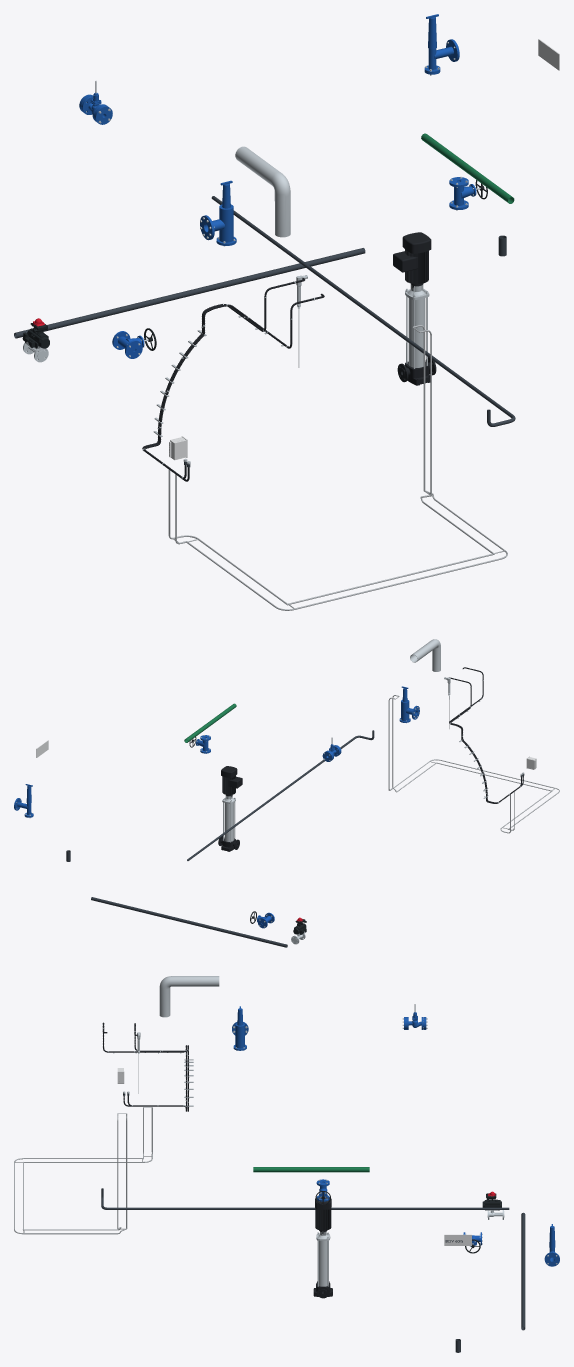
Rendered from s4000-6-CnQ8kFjD.glb.
3 renders of one model, top to bottom at view 1: azimuth 30°, elevation 25°; view 2: azimuth 150°, elevation 25°; view 3: azimuth 270°, elevation 25°, orthographic. The views are drawn at different scales.
Parts seen in each view (by area): view 1: cables / zinc, bottom_discharge / dark, steam_rise / steel, tds_common / dark, pump_2 CAD solid 15, safety_2 / blue, pump_2 CAD solid 2, wiring_low_level_1 / black, flash_steam_common / blue, pump_delivery / green, bcv7432 / bcv7432_0.npz, wiring_lp400 / black (+1 smaller); view 2: cables / zinc, bottom_discharge / dark, tds_common / dark, steam_rise / steel, pump_2 CAD solid 15, safety_2 / blue; view 3: cables / zinc, tds_common / dark, steam_rise / steel, pump_delivery / green, bottom_discharge / dark, pump_2 CAD solid 15.
Part boxes in pixels (box(x1,y1,x2,y2)): cables / zinc: box(168, 325, 507, 610); bottom_discharge / dark: box(14, 248, 365, 338); steam_rise / steel: box(235, 146, 290, 237); tds_common / dark: box(211, 196, 515, 426); pump_2 CAD solid 15: box(393, 232, 431, 284); safety_2 / blue: box(200, 180, 236, 245); pump_2 CAD solid 2: box(408, 298, 425, 367); wiring_low_level_1 / black: box(144, 293, 324, 481); flash_steam_common / blue: box(424, 14, 459, 74); pump_delivery / green: box(421, 133, 514, 203); bcv7432 / bcv7432_0.npz: box(22, 318, 49, 362); wiring_lp400 / black: box(142, 278, 305, 478); cables / zinc: box(388, 695, 559, 833); bottom_discharge / dark: box(91, 897, 287, 947); tds_common / dark: box(187, 730, 374, 860); steam_rise / steel: box(410, 639, 440, 671); pump_2 CAD solid 15: box(221, 766, 242, 795); safety_2 / blue: box(399, 686, 419, 722); cables / zinc: box(14, 1107, 152, 1234); tds_common / dark: box(101, 1188, 509, 1209); steam_rise / steel: box(159, 976, 219, 1017); pump_delivery / green: box(253, 1167, 369, 1172); bottom_discharge / dark: box(521, 1212, 525, 1330); pump_2 CAD solid 15: box(315, 1197, 331, 1231).
Size of the model in its own units: 5.25 by 2.91 by 5.87.
